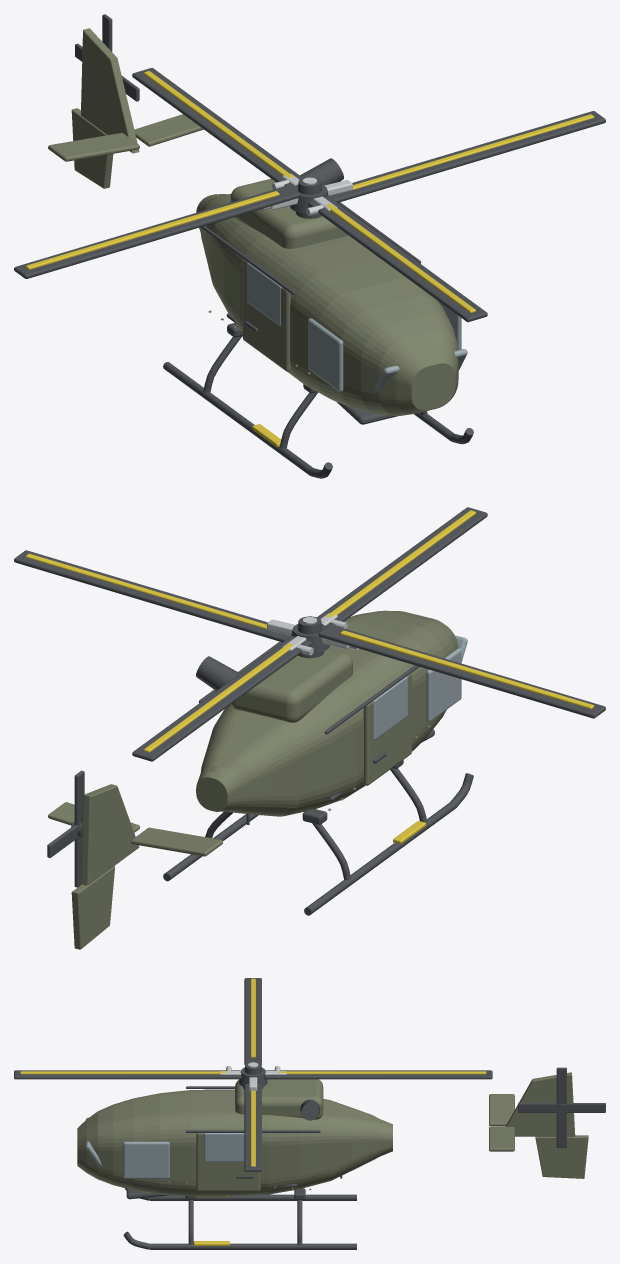
File: heli.fbx
3 renders of one model, top to bottom at view 1: azimuth 30°, elevation 25°; view 2: azimuth 150°, elevation 25°; view 3: azimuth 270°, elevation 25°, orthographic. The views are drawn at different scales.
Parts seen in each view (by area): view 1: utility-helicopter, rotor-main/gunmetal, rotor-main/yellow, cabin-l/olive, cabin-l/glass, rotor-main/steel, rotor-tail/gunmetal; view 2: utility-helicopter, rotor-main/gunmetal, rotor-main/yellow, cabin-l/olive, rotor-tail/gunmetal, cabin-l/glass, rotor-main/steel; view 3: utility-helicopter, rotor-main/gunmetal, rotor-main/yellow, cabin-r/olive, rotor-tail/gunmetal, cabin-r/glass, rotor-main/steel.
Boxes of the visible parts, x1,y1,x2,y2 form: utility-helicopter: [48, 28, 473, 478]; rotor-main/gunmetal: [14, 68, 605, 322]; rotor-main/yellow: [25, 71, 594, 312]; cabin-l/olive: [242, 259, 290, 371]; cabin-l/glass: [247, 262, 281, 326]; rotor-main/steel: [261, 173, 352, 215]; rotor-tail/gunmetal: [75, 14, 139, 101]; utility-helicopter: [48, 610, 473, 949]; rotor-main/gunmetal: [14, 507, 605, 761]; rotor-main/yellow: [25, 510, 594, 752]; cabin-l/olive: [363, 673, 411, 785]; rotor-tail/gunmetal: [47, 770, 84, 887]; cabin-l/glass: [373, 676, 407, 740]; rotor-main/steel: [267, 613, 358, 655]; utility-helicopter: [77, 1062, 588, 1249]; rotor-main/gunmetal: [14, 978, 492, 1171]; rotor-main/yellow: [20, 978, 486, 1166]; cabin-r/olive: [196, 1133, 260, 1191]; rotor-tail/gunmetal: [518, 1067, 605, 1147]; cabin-r/glass: [204, 1133, 244, 1161]; rotor-main/steel: [220, 1062, 286, 1091].
Bounding box in the file's own units: 9.23 × 3.45 × 11.43.
